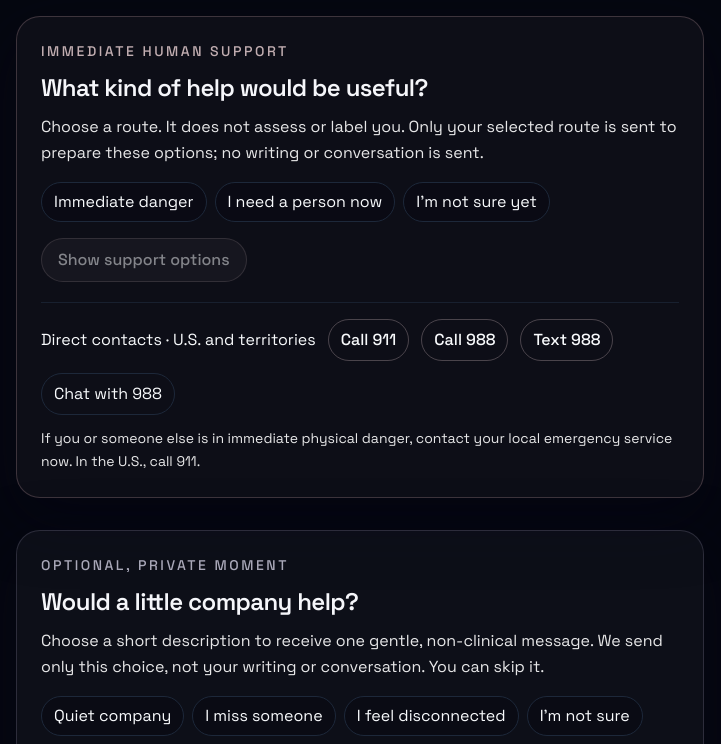
SupportHubPage Sentinel safety route › sends only the selected support route and keeps direct contacts available
Click the button "I need a person now".
click(305, 202)  # box [215,182,395,222]
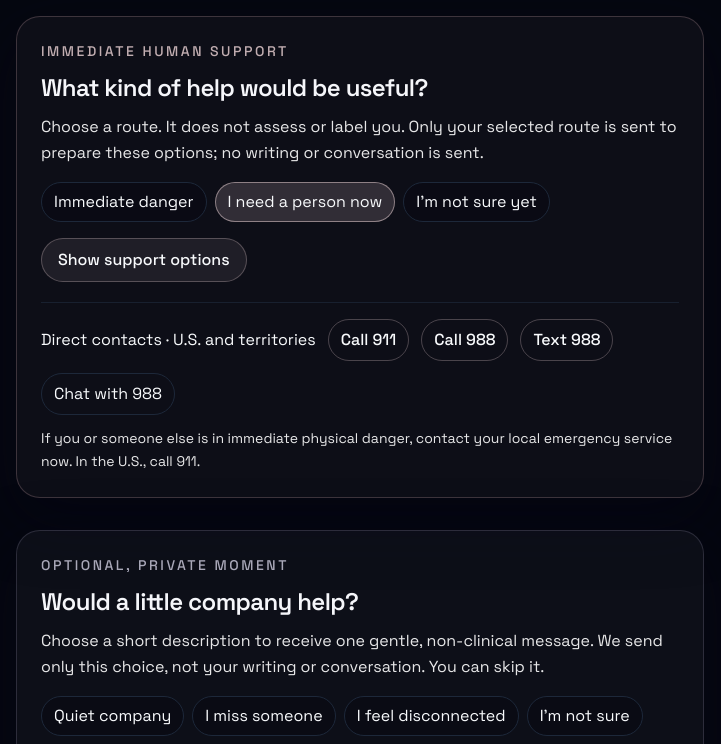
Click the button "Show support options".
click(144, 260)  # box [41,238,247,282]
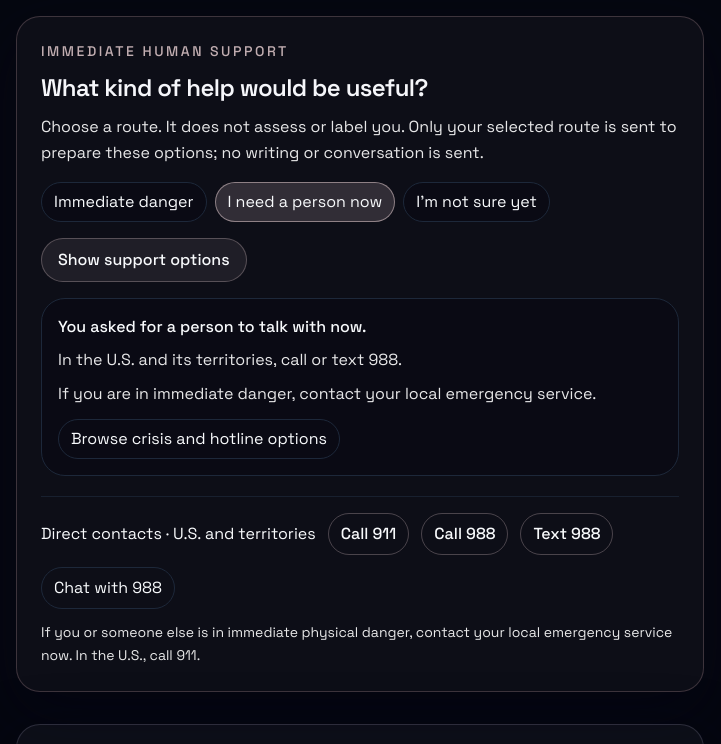
Expected: the text "You asked for a person to talk with now." is shown, [58,316,366,337]
